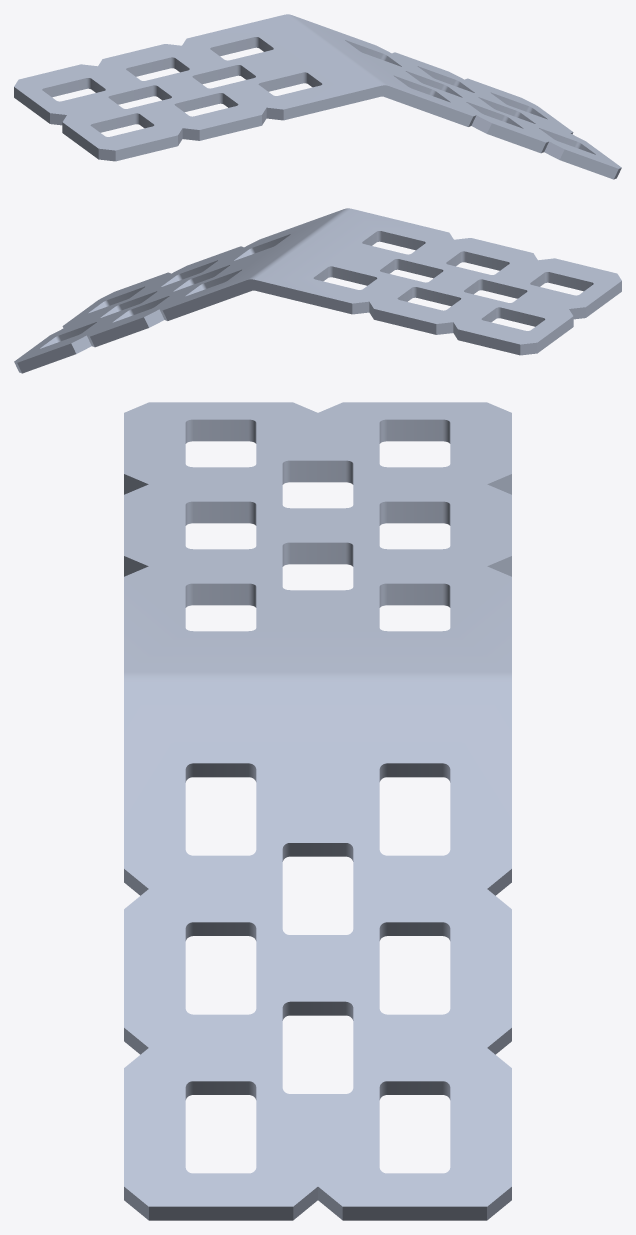
The model's file is 30 Degree Bent Gusset (276-7758-002).glb.
3 renders of one model, top to bottom at view 1: azimuth 30°, elevation 25°; view 2: azimuth 150°, elevation 25°; view 3: azimuth 270°, elevation 25°, orthographic. The views are drawn at different scales.
Visible parts, largest first — view 1: 276-7758-002 Rev1; view 2: 276-7758-002 Rev1; view 3: 276-7758-002 Rev1.
Boxes of the visible parts, x1,y1,x2,y2 form: 276-7758-002 Rev1: [14, 14, 621, 179]; 276-7758-002 Rev1: [14, 208, 621, 373]; 276-7758-002 Rev1: [124, 402, 511, 1220].
Size of the model in its own units: 0.0791 by 0.0226 by 0.0254.
